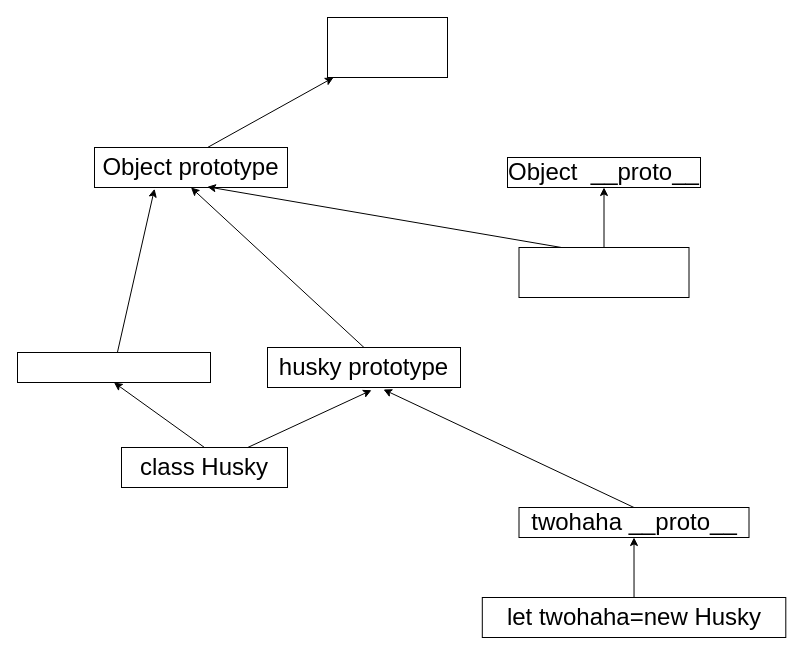
The diagram is 804 pixels wide and 655 high, and some of its shapes have lost their labels. The centre of each missing label's shape, as x and y in pixels:
"husky __proto__" belongs at point 113,367.
"null" belongs at point 387,47.
"Object" belongs at point 603,272.
